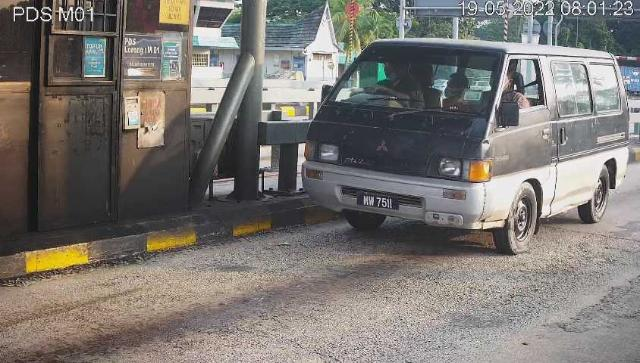License_Plate: (357, 193, 402, 214)
van: (304, 39, 631, 255)
